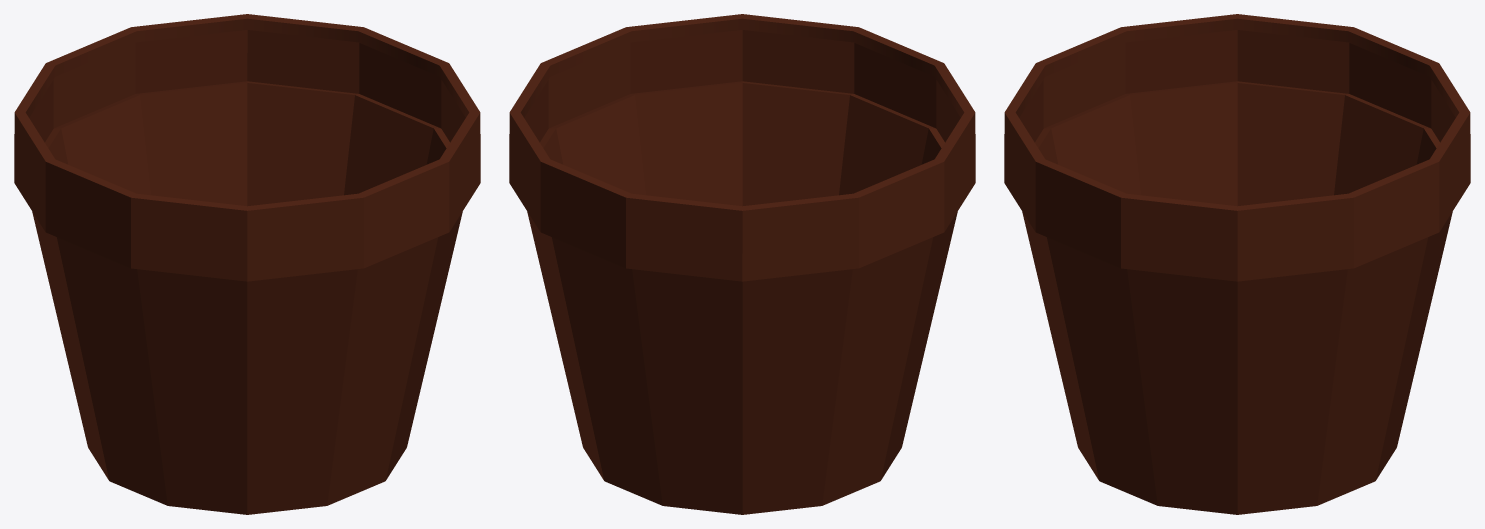
The model's file is pot1.fbx.
The picture shows the model from 3 angles, left to right: view 1: azimuth 30°, elevation 25°; view 2: azimuth 150°, elevation 25°; view 3: azimuth 270°, elevation 25°; orthographic projection.
Visible parts, largest first — view 1: pot1; view 2: pot1; view 3: pot1.
Boxes of the visible parts, <box> form: pot1: <box>14,14,480,514</box>; pot1: <box>509,14,975,514</box>; pot1: <box>1004,14,1470,514</box>.
Bounding box in the file's own units: 37.83 × 30 × 37.83.
